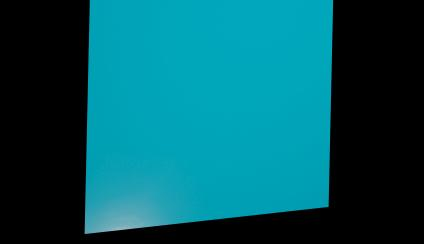boat: (260, 0, 334, 27)
land_base: (86, 200, 168, 236)
